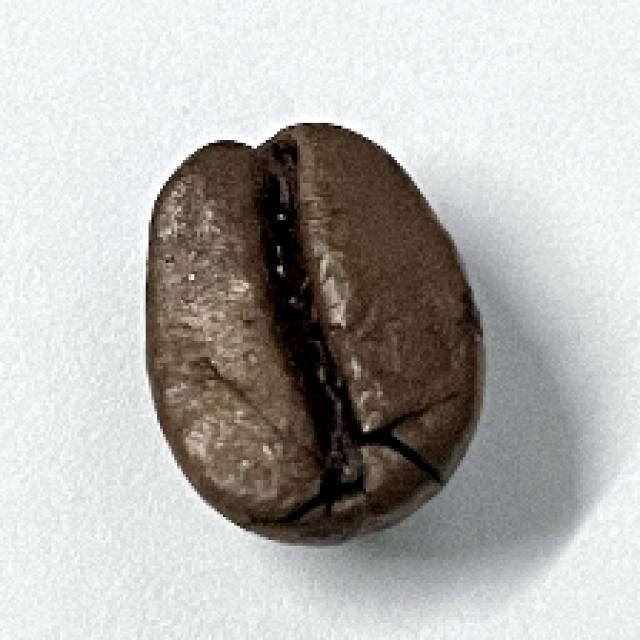bean: (139, 120, 490, 548)
